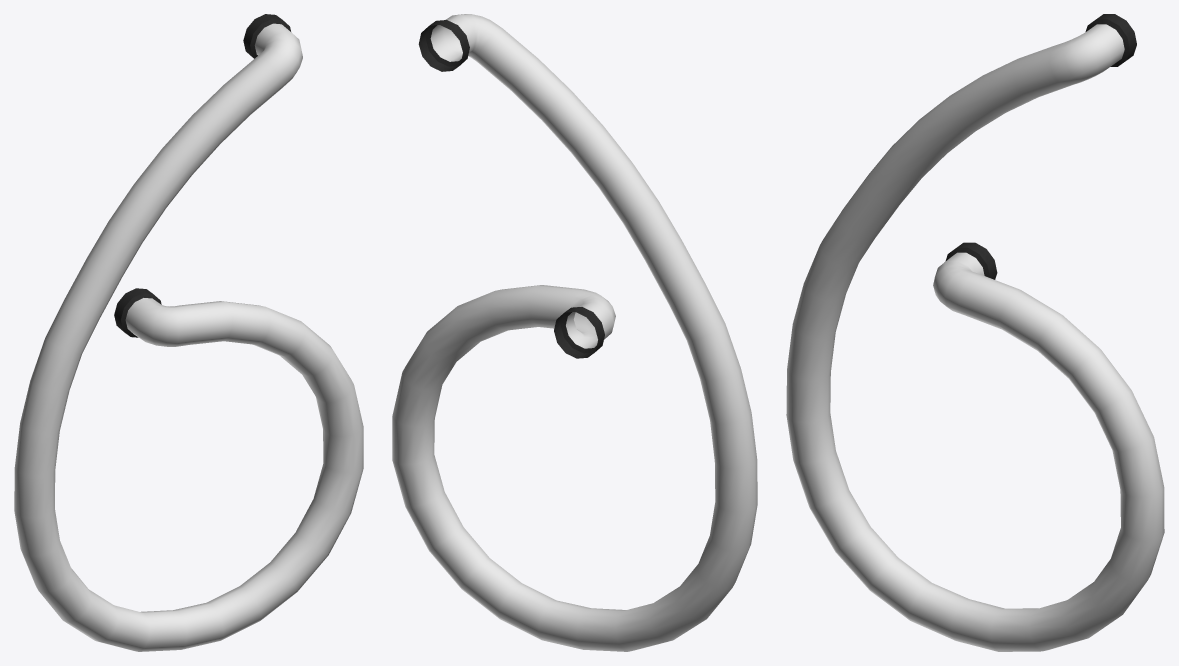
Rendered from LettersNeon01_6.FBX.
3 renders of one model, left to right at view 1: azimuth 30°, elevation 25°; view 2: azimuth 150°, elevation 25°; view 3: azimuth 330°, elevation 25°, orthographic. The views are drawn at different scales.
Parts seen in each view (by area): view 1: LettersNeon01_6; view 2: LettersNeon01_6; view 3: LettersNeon01_6.
Boxes of the visible parts, x1=… form: LettersNeon01_6: x1=14, y1=14, x2=363, y2=651; LettersNeon01_6: x1=392, y1=14, x2=757, y2=651; LettersNeon01_6: x1=786, y1=14, x2=1164, y2=651.
Size of what is drawn, in the model's own units: 0.294 by 0.4799 by 0.054.
